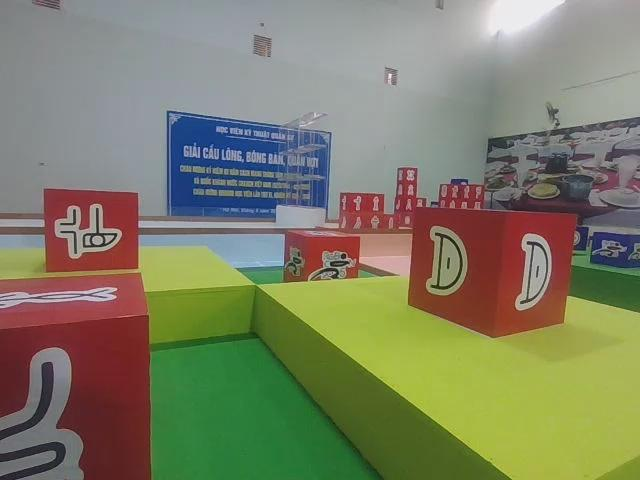R1: (286, 230, 361, 292)
R2 Real: (409, 204, 577, 345), (41, 186, 145, 275)
